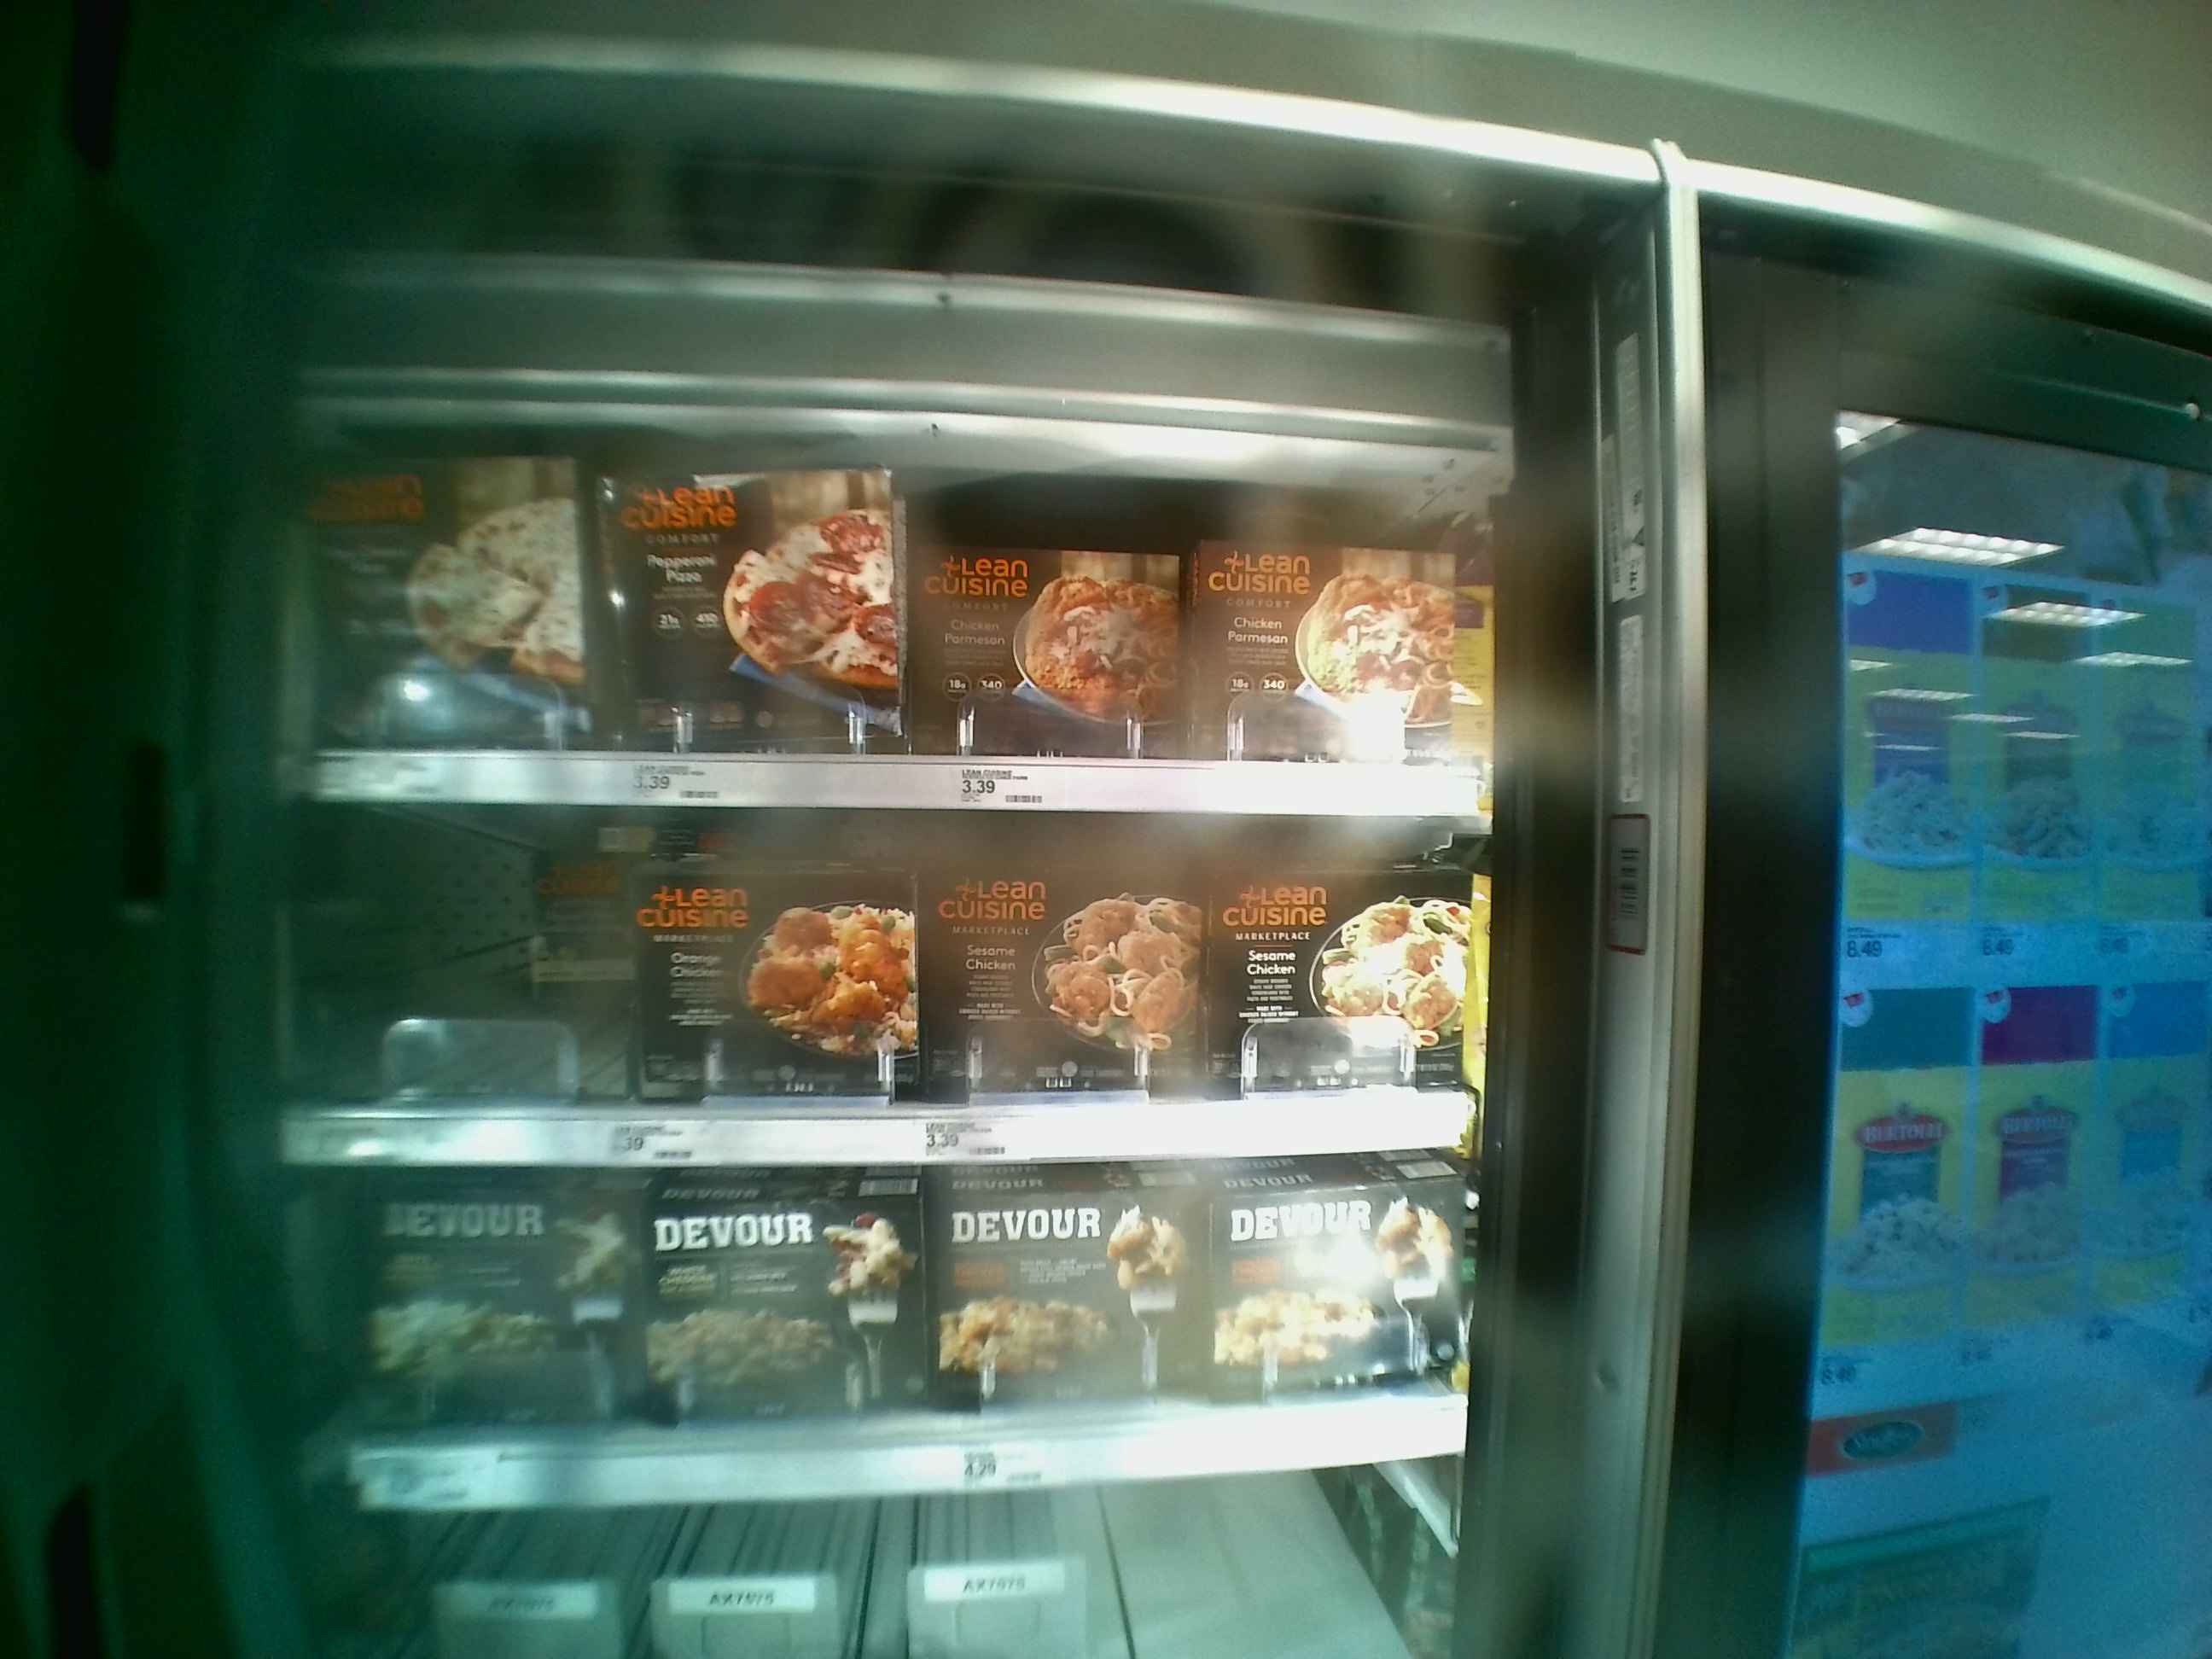Shelf: (275, 396, 1470, 814), (280, 798, 1484, 1168), (280, 1162, 1484, 1514)
